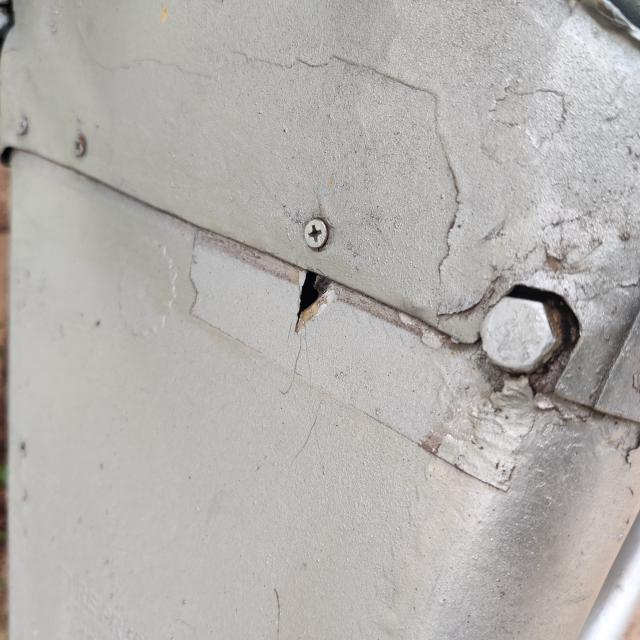crack: (264, 254, 360, 360)
